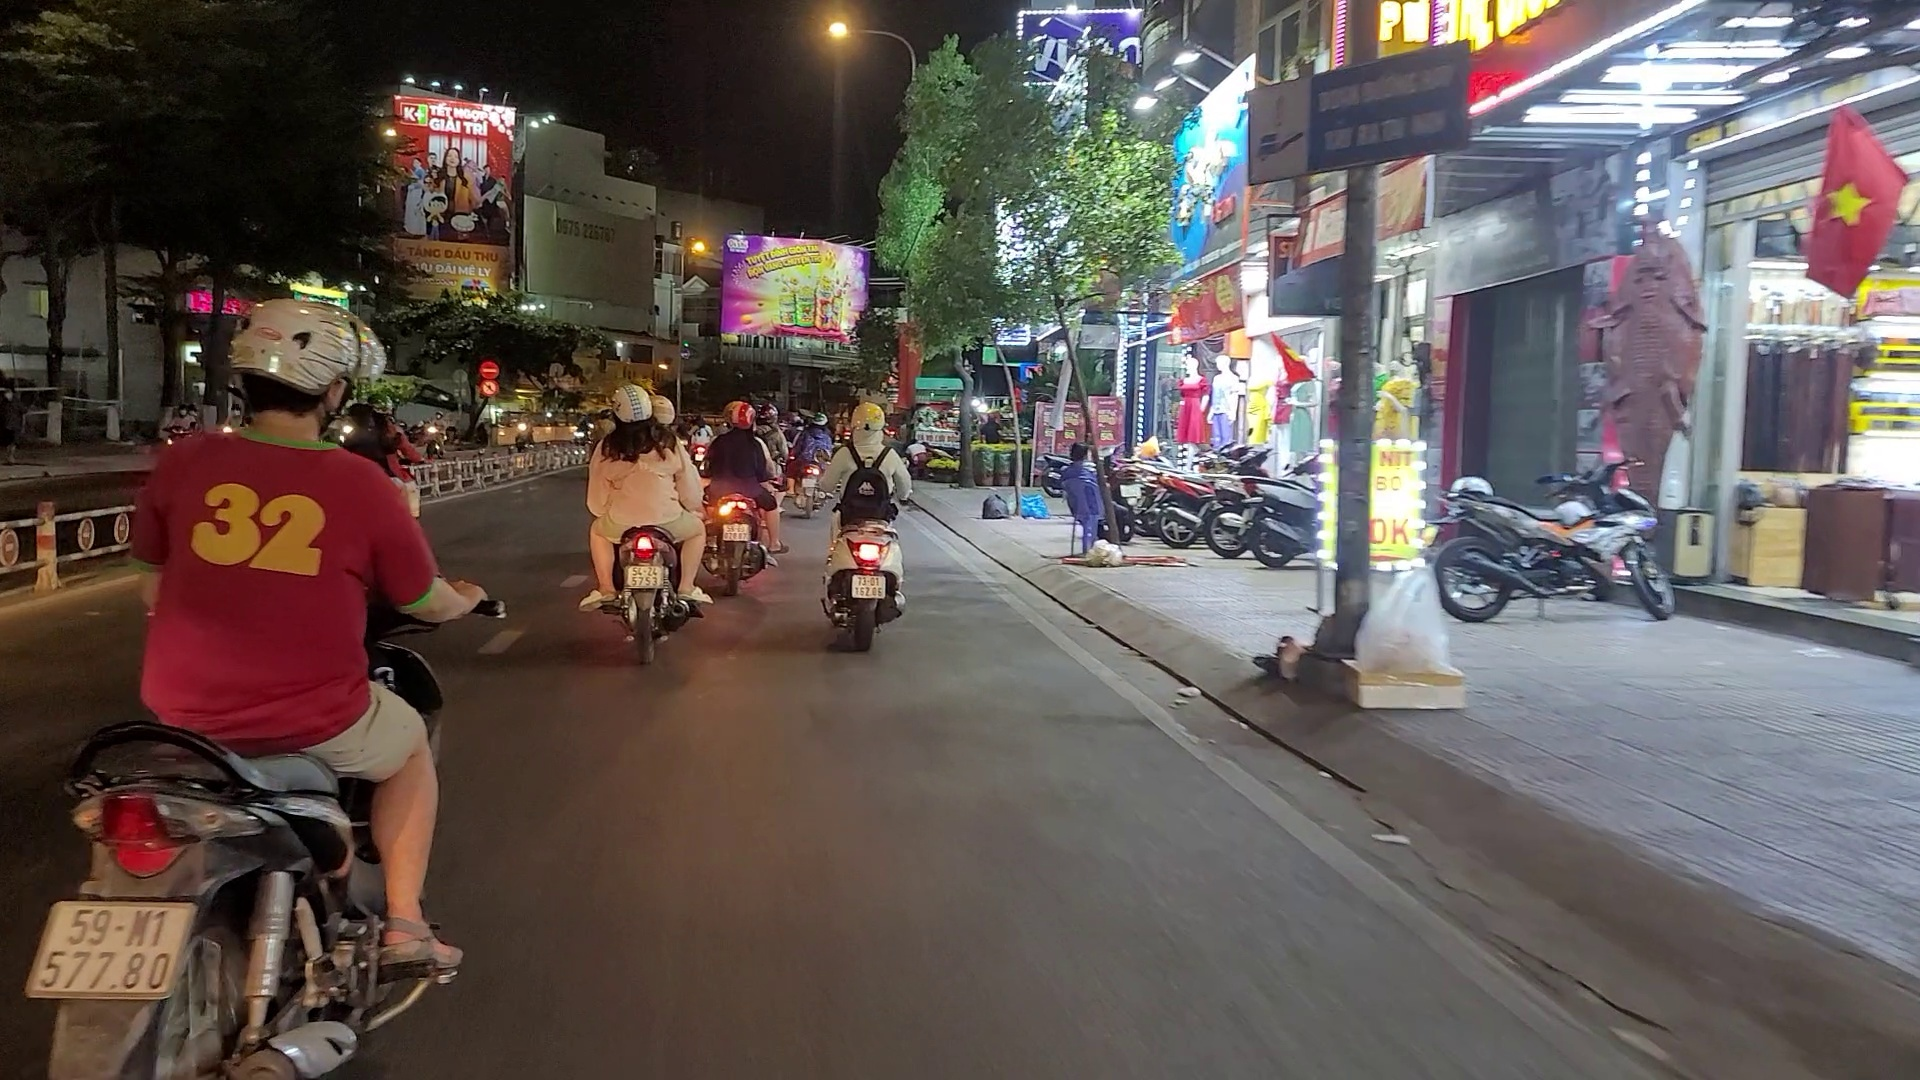Bien khac: (1244, 38, 1474, 189)
